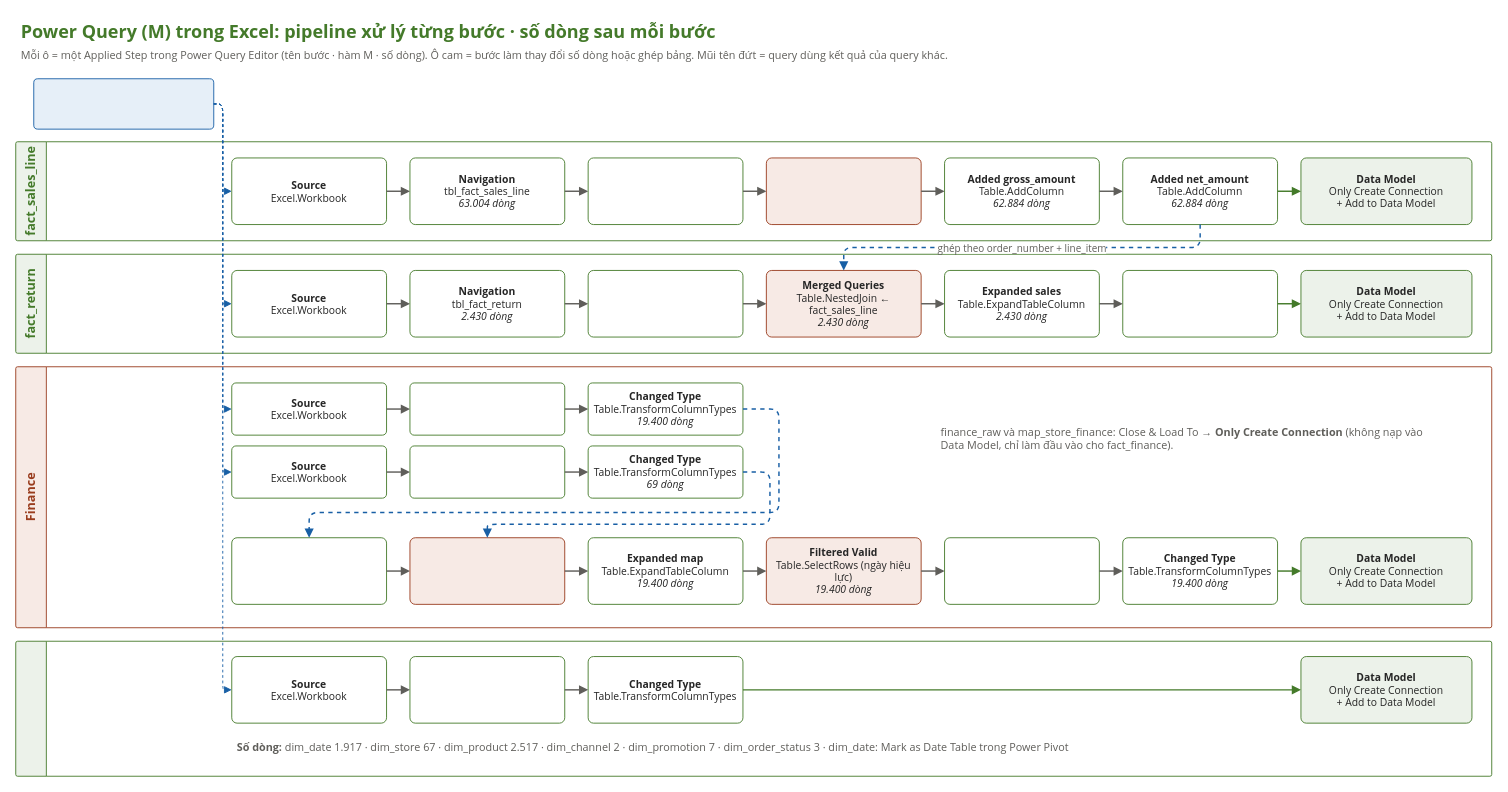
Some shapes in this 1508 by 792 pixel diagram are drawn without their labels. Each missing label, with the box of its shape:
6 bảng dim: (15, 640, 1492, 776)
Changed Type Table.TransformColumnTypes 2.430 dòng: (587, 270, 743, 337)
Changed Type Table.TransformColumnTypes 63.004 dòng: (587, 157, 743, 225)
Changed Type2 Table.TransformColumnTypes 2.430 dòng: (1122, 270, 1278, 337)
Merged Queries Table.NestedJoin ← map_store_finance 19.400 dòng: (409, 537, 565, 604)
Navigation tbl_dim_*: (409, 656, 565, 723)
Navigation tbl_finance_revenue 19.400 dòng: (409, 382, 565, 435)
Navigation tbl_map_store_finance 69 dòng: (409, 445, 565, 498)
Removed Columns Table.RemoveColumns 19.400 dòng: (944, 537, 1099, 604)
Removed Duplicates Table.Distinct 62.884 dòng: (765, 157, 921, 225)
Source = finance_raw 19.400 dòng: (231, 537, 387, 604)
SourceFolder tham số thư mục chứa 2 file: (33, 78, 214, 129)
